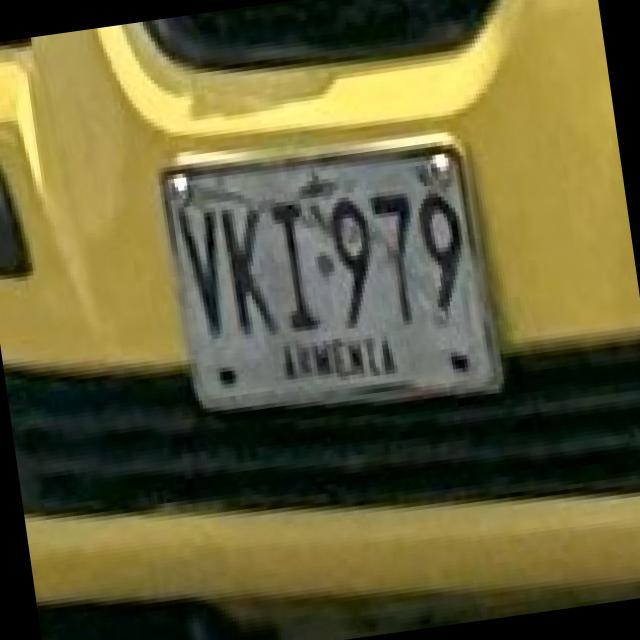number plate: (161, 145, 495, 401)
